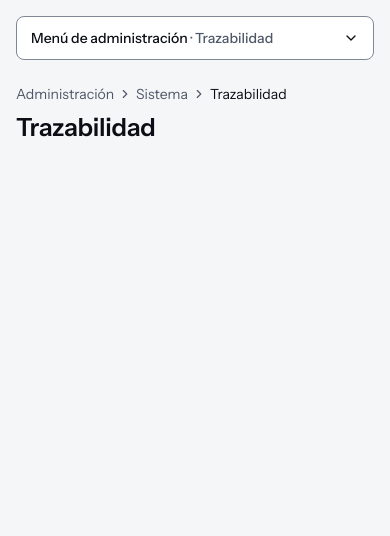
Test: AdminLayout navigation › opens and closes the phone menu with an accessible button
What coordinates should you click on to do the following:
click the button "Menú de administración · Trazabilidad"
I would click on:
 (195, 38)
Its box is top-left (16, 16), bottom-right (374, 60).
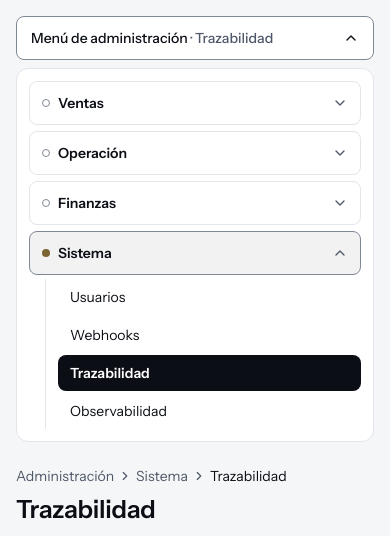
Expected: the button "Menú de administración · Trazabilidad" is expanded
What coordinates should you click on to do the following:
click the button "Menú de administración · Trazabilidad"
I would click on:
 (195, 38)
Its box is top-left (16, 16), bottom-right (374, 60).
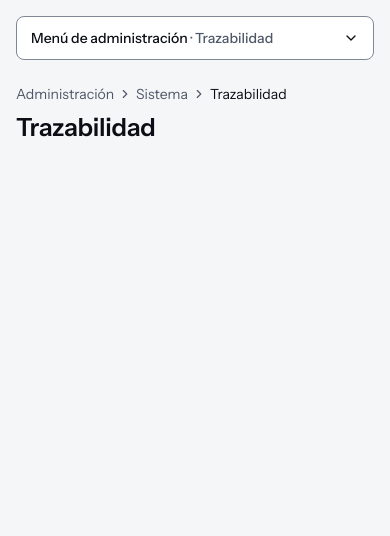
Expected: the button "Menú de administración · Trazabilidad" is collapsed, top-left (16, 16), bottom-right (374, 60)
